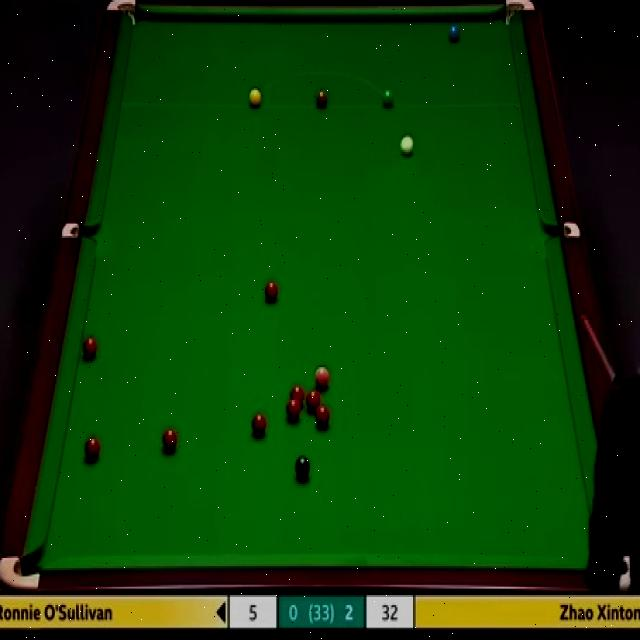black-ball: (294, 455, 312, 482)
blue-ball: (447, 18, 462, 44)
brown-ball: (315, 89, 329, 110)
green-ball: (381, 88, 395, 110)
pink-ball: (312, 366, 330, 391)
red-ball: (85, 430, 103, 458), (263, 278, 280, 304), (285, 398, 302, 422), (161, 428, 178, 452), (288, 384, 306, 406), (81, 336, 97, 360), (252, 412, 266, 438), (315, 404, 330, 427), (308, 388, 324, 408)
white-ball: (398, 133, 417, 157)
yellow-ball: (249, 88, 262, 109)
